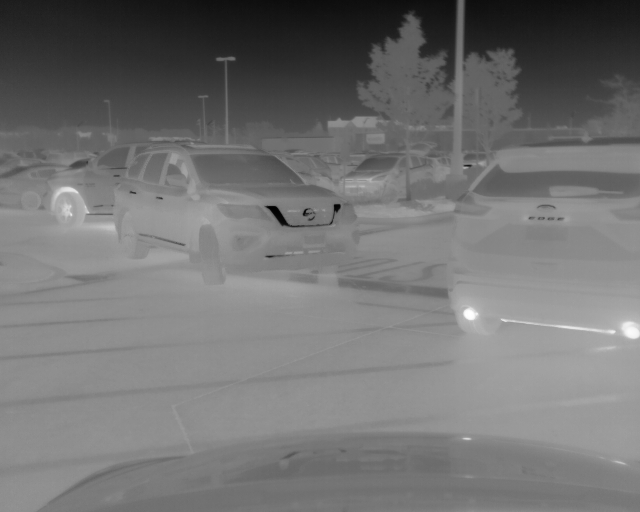car: (444, 139, 640, 339), (111, 143, 363, 285), (42, 140, 182, 224), (340, 150, 447, 204), (2, 162, 77, 210), (461, 149, 487, 170)
